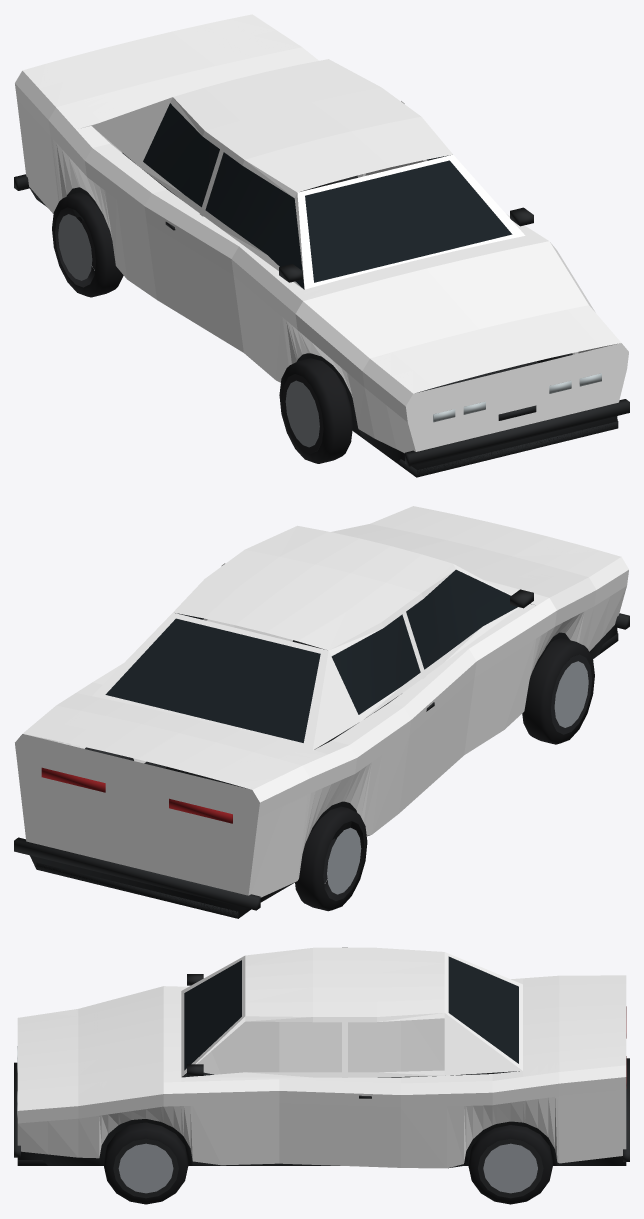
Rendered from bancroft_bigorna.glb.
The picture shows the model from 3 angles, top to bottom: view 1: azimuth 30°, elevation 25°; view 2: azimuth 150°, elevation 25°; view 3: azimuth 270°, elevation 25°; orthographic projection. The views are drawn at different scales.
Parts seen in each view (by area): view 1: Body_Paint, Body_Details, Mount_FrontLeft_Wheel_Details, Mount_RearLeft_Wheel_Details; view 2: Body_Paint, Body_Details, Mount_FrontLeft_Wheel_Details, Mount_RearLeft_Wheel_Details; view 3: Body_Paint, Body_Details, Mount_FrontRight_Wheel_Details, Mount_RearRight_Wheel_Details.
Boxes of the visible parts, left/top/right/bottom form: Body_Paint: left=15, top=14, right=628, bottom=453; Body_Details: left=14, top=103, right=629, bottom=477; Mount_FrontLeft_Wheel_Details: left=279, top=358, right=352, bottom=463; Mount_RearLeft_Wheel_Details: left=52, top=192, right=123, bottom=297; Body_Paint: left=15, top=506, right=628, bottom=897; Body_Details: left=14, top=569, right=629, bottom=918; Mount_FrontLeft_Wheel_Details: left=522, top=638, right=594, bottom=744; Mount_RearLeft_Wheel_Details: left=295, top=806, right=367, bottom=911; Body_Paint: left=17, top=947, right=626, bottom=1168; Body_Details: left=14, top=956, right=629, bottom=1168; Mount_FrontRight_Wheel_Details: left=104, top=1122, right=188, bottom=1204; Mount_RearRight_Wheel_Details: left=468, top=1125, right=552, bottom=1204.
Size of the model in its own units: 1.97 by 1.5 by 4.82.
2 materials, 1 textured.
